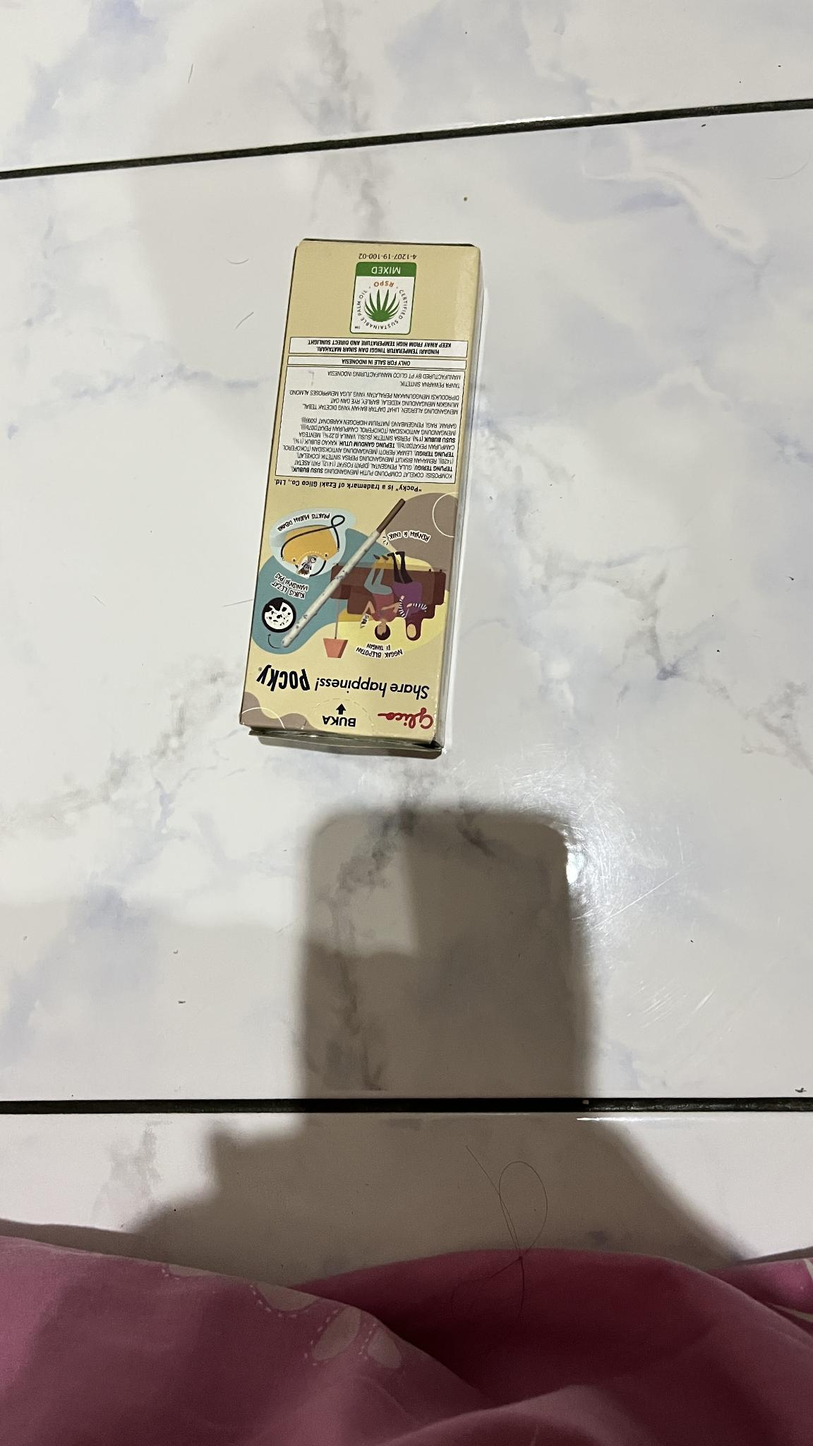Kertas: (251, 237, 480, 764)
